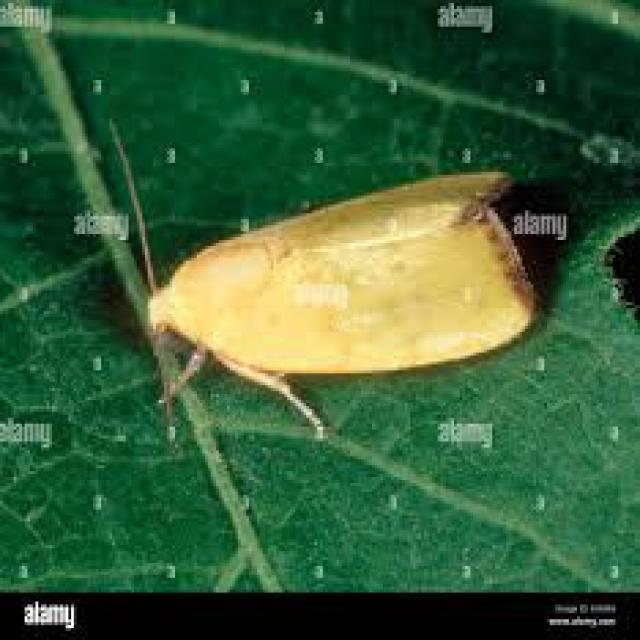yellow-stem-borer: (86, 108, 566, 455)
